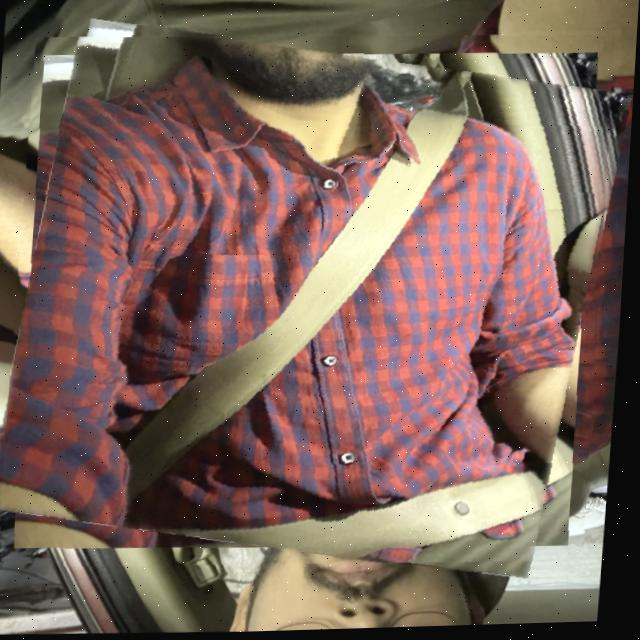seatbelt: (1, 22, 623, 576)
